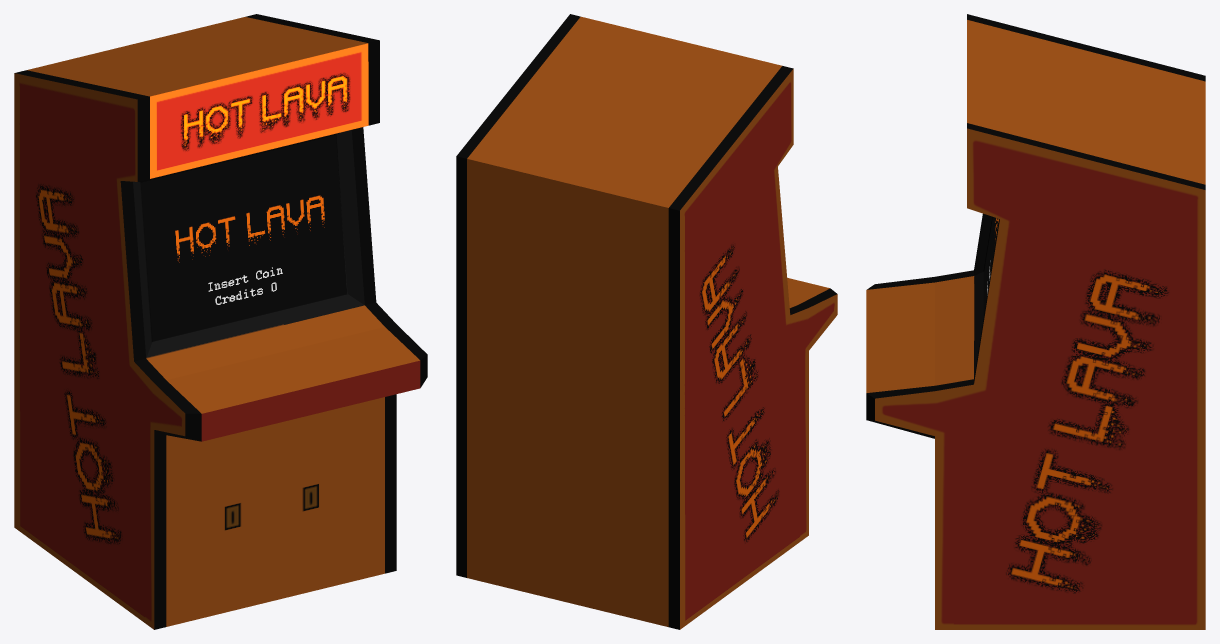
File: cab_hotlava.glb
3 views of the same model, side by side, from view 1: azimuth 30°, elevation 25°; view 2: azimuth 150°, elevation 25°; view 3: azimuth 270°, elevation 25° (orthographic). The views are drawn at different scales.
Visible parts, largest first — view 1: cabinet; view 2: cabinet; view 3: cabinet.
Boxes of the visible parts, x1,y1,x2,y2 form: cabinet: (14,14,427,629); cabinet: (456,14,837,629); cabinet: (866,14,1205,629).
Bounding box in the file's own units: 2 × 4.09 × 2.51.
Materials: 2 (2 with a texture image).
